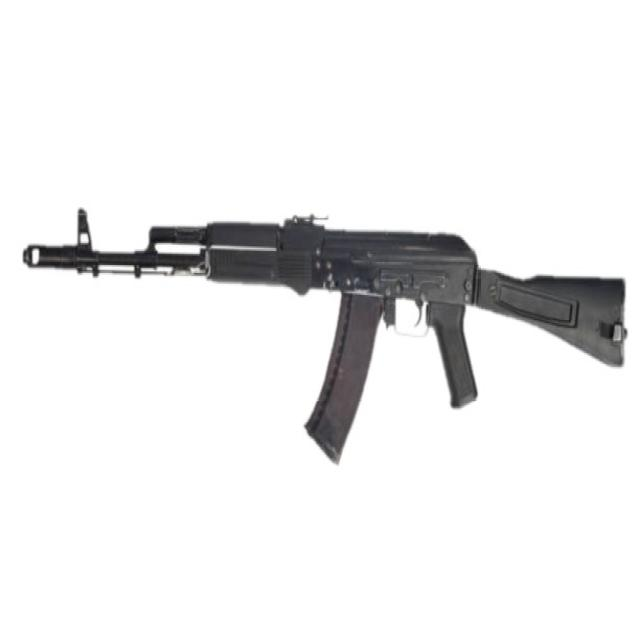rifle: (17, 201, 632, 473)
